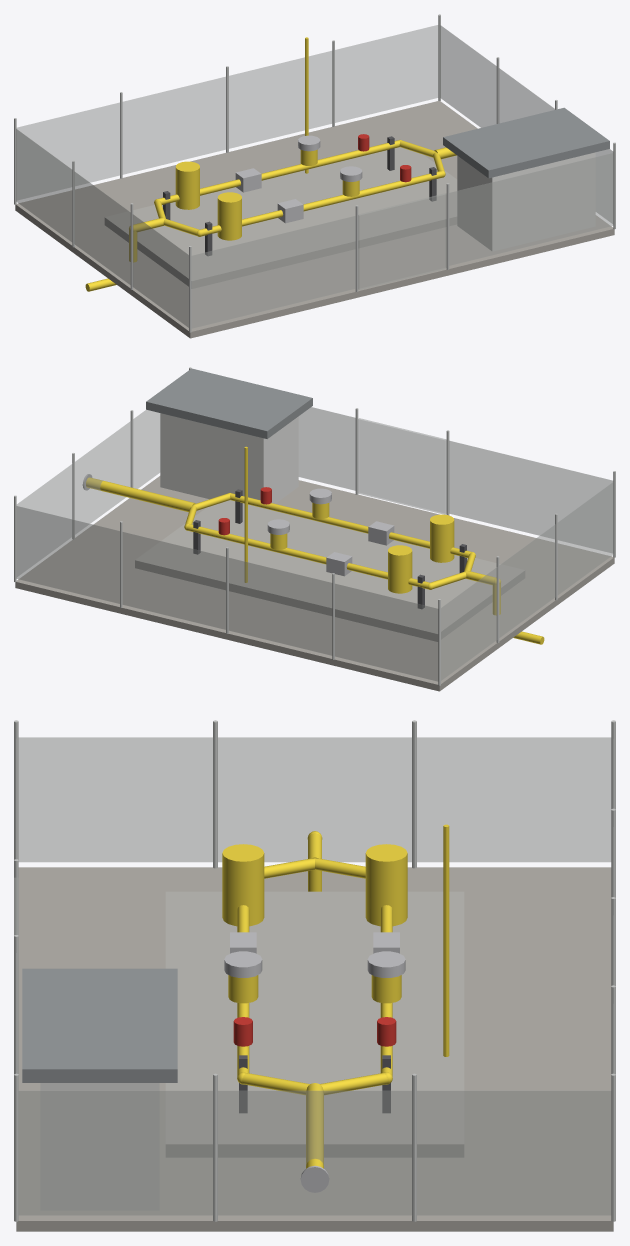
File: SM_GasMeteringStation.fbx
The picture shows the model from 3 angles, top to bottom: view 1: azimuth 30°, elevation 25°; view 2: azimuth 150°, elevation 25°; view 3: azimuth 270°, elevation 25°; orthographic projection. The views are drawn at different scales.
Visible parts, largest first — view 1: GM_Station, GM_Gate; view 2: GM_Station, GM_Gate; view 3: GM_Station.
Part boxes in pixels (<box>): GM_Station: <box>14,14,615,338</box>; GM_Gate: <box>358,193,446,289</box>; GM_Station: <box>14,367,615,691</box>; GM_Gate: <box>358,418,446,514</box>; GM_Station: <box>14,720,615,1231</box>.
Bounding box in the file's own units: 1503 × 513 × 1008.
